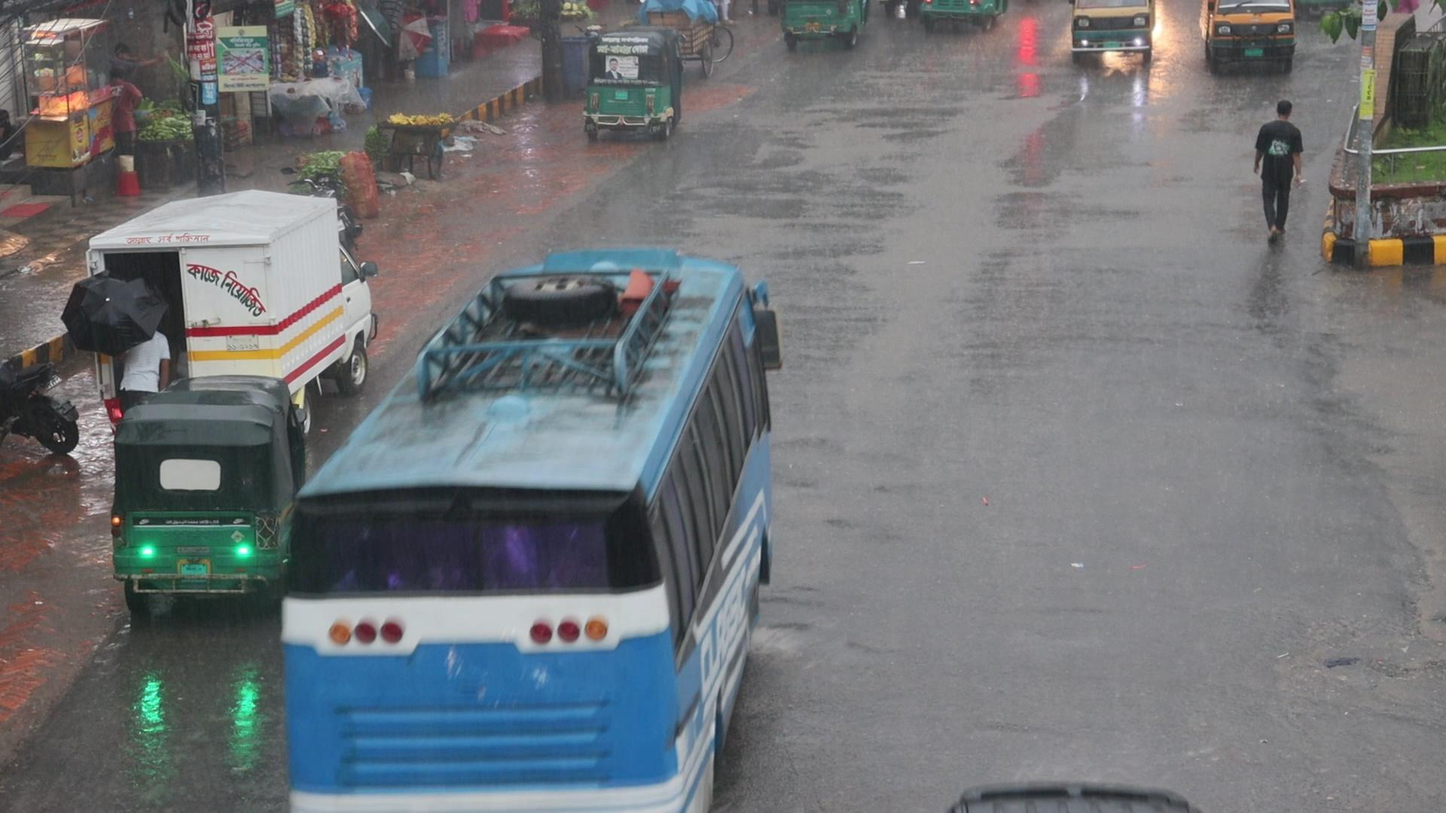Bus: (276, 236, 782, 813)
